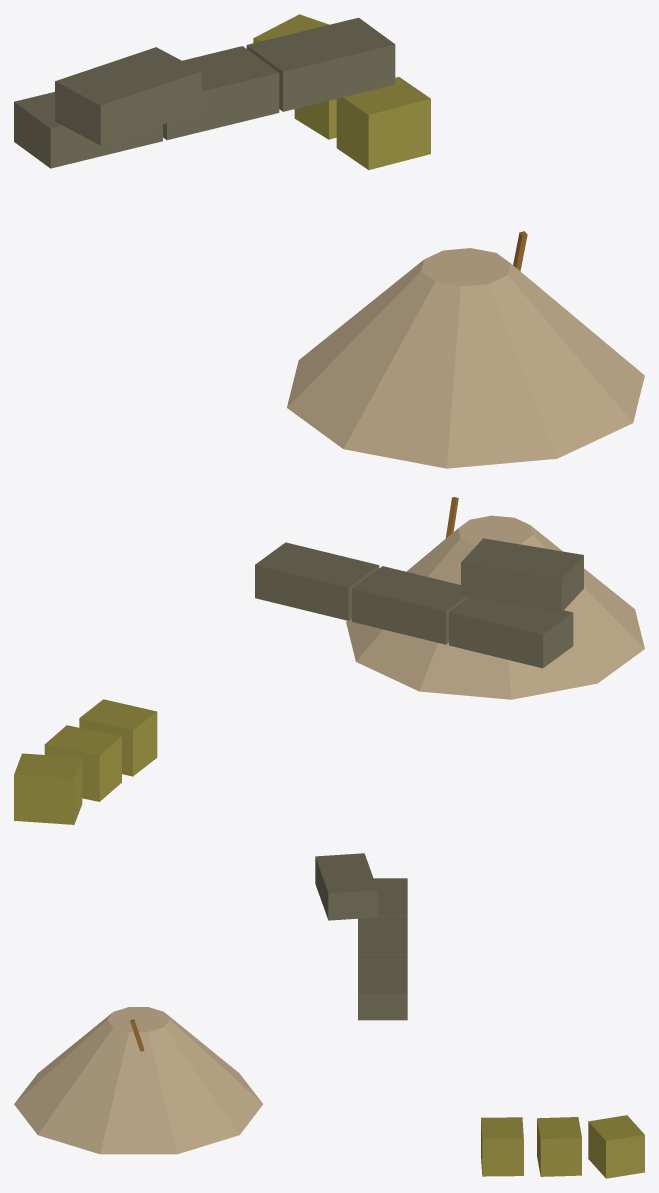
Rendered from SM_ObraSacos_v3_8m_LOD0.fbx.
The picture shows the model from 3 angles, top to bottom: view 1: azimuth 30°, elevation 25°; view 2: azimuth 150°, elevation 25°; view 3: azimuth 270°, elevation 25°; orthographic projection. The views are drawn at different scales.
Parts seen in each view (by area): view 1: SM_obra_curso_v6_LOD0; view 2: SM_obra_curso_v6_LOD0; view 3: SM_obra_curso_v6_LOD0.
Boxes of the visible parts, x1,y1,x2,y2 form: SM_obra_curso_v6_LOD0: (14,14,644,468); SM_obra_curso_v6_LOD0: (14,497,644,824); SM_obra_curso_v6_LOD0: (14,853,644,1178).
Bounding box in the file's own units: 3.62 × 1.82 × 6.07.
